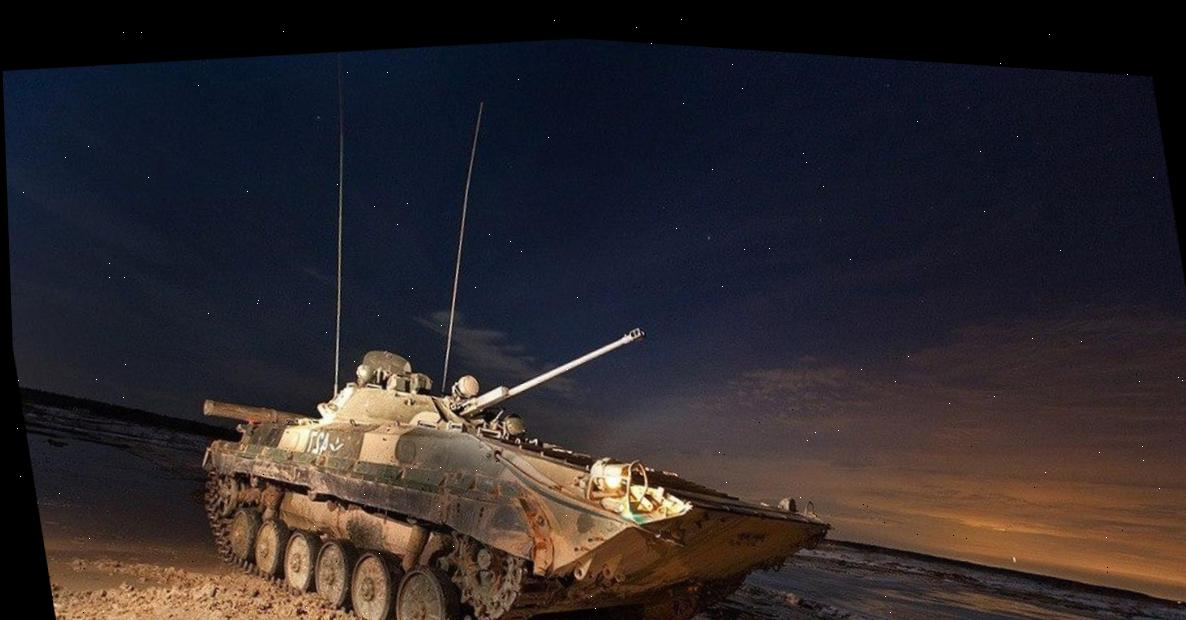tank: (179, 273, 854, 620)
